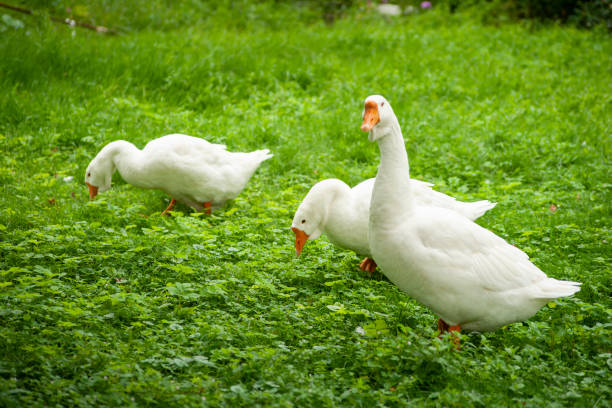goose: (357, 92, 576, 342), (79, 132, 275, 218), (283, 174, 370, 257)
